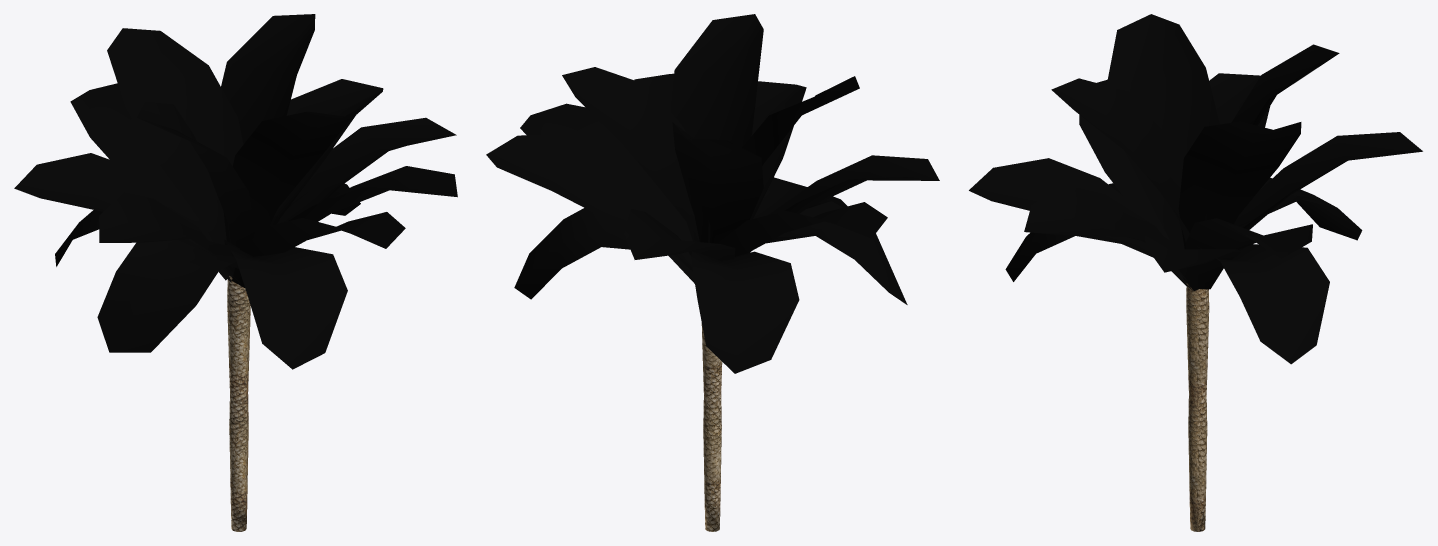
Rendered from HyPV2_2s_Hi.fbx.
3 renders of one model, left to right at view 1: azimuth 30°, elevation 25°; view 2: azimuth 150°, elevation 25°; view 3: azimuth 270°, elevation 25°, orthographic.
Visible parts, largest first — view 1: HyPV2_Hi; view 2: HyPV2_Hi; view 3: HyPV2_Hi.
Boxes of the visible parts, box(x1,y1,x2,y2) form: HyPV2_Hi: box(14, 14, 457, 531); HyPV2_Hi: box(486, 14, 939, 531); HyPV2_Hi: box(969, 14, 1422, 531).
Bounding box in the file's own units: 1297 × 1445 × 1312.
